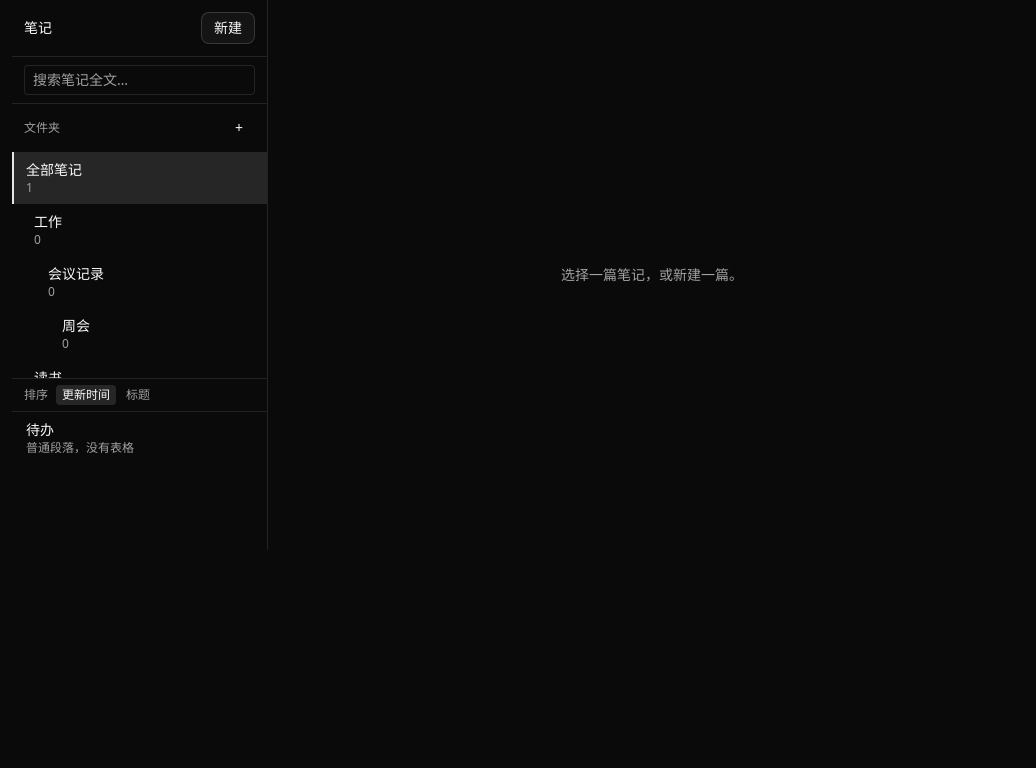
it: NotesView › ★ 表格命令收进下拉：菜单能打开、含全部表格操作
The image size is (1036, 768).
Click the text "待办". click: {"x": 40, "y": 430}
box: [26,420,54,439]
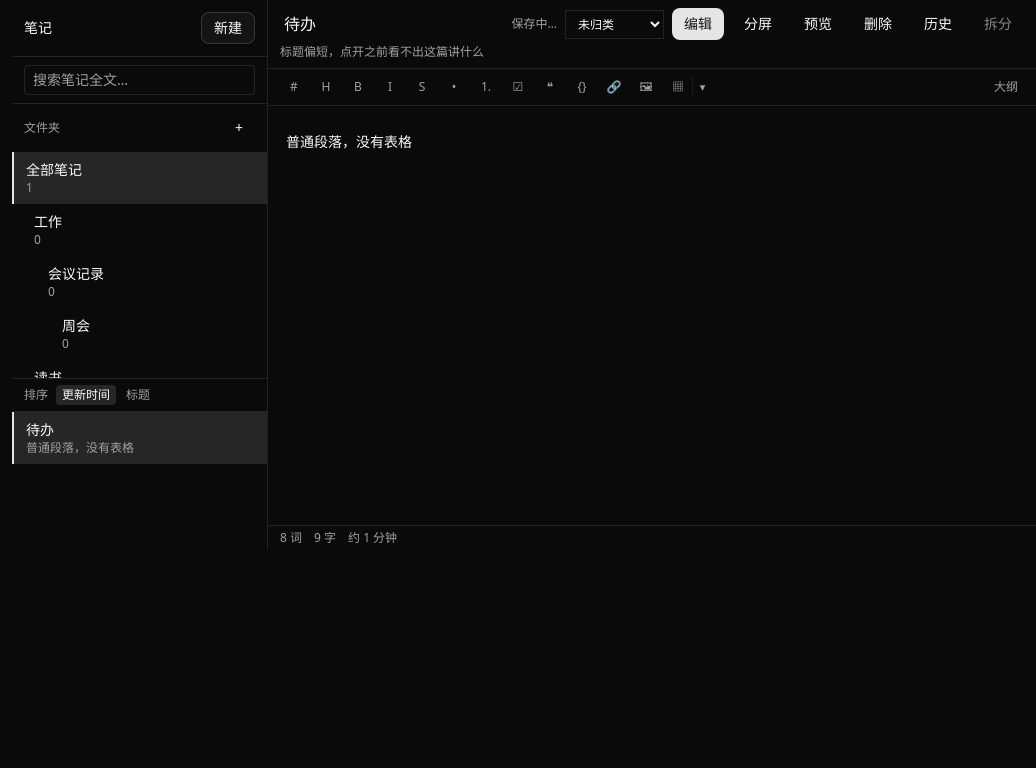
Now the element named "笔记正文" is shown, box [286,132,412,151]
# 打开「表格操作」下拉
Click the button named "更多表格操作". click: {"x": 702, "y": 87}
box: [692,77,712,97]
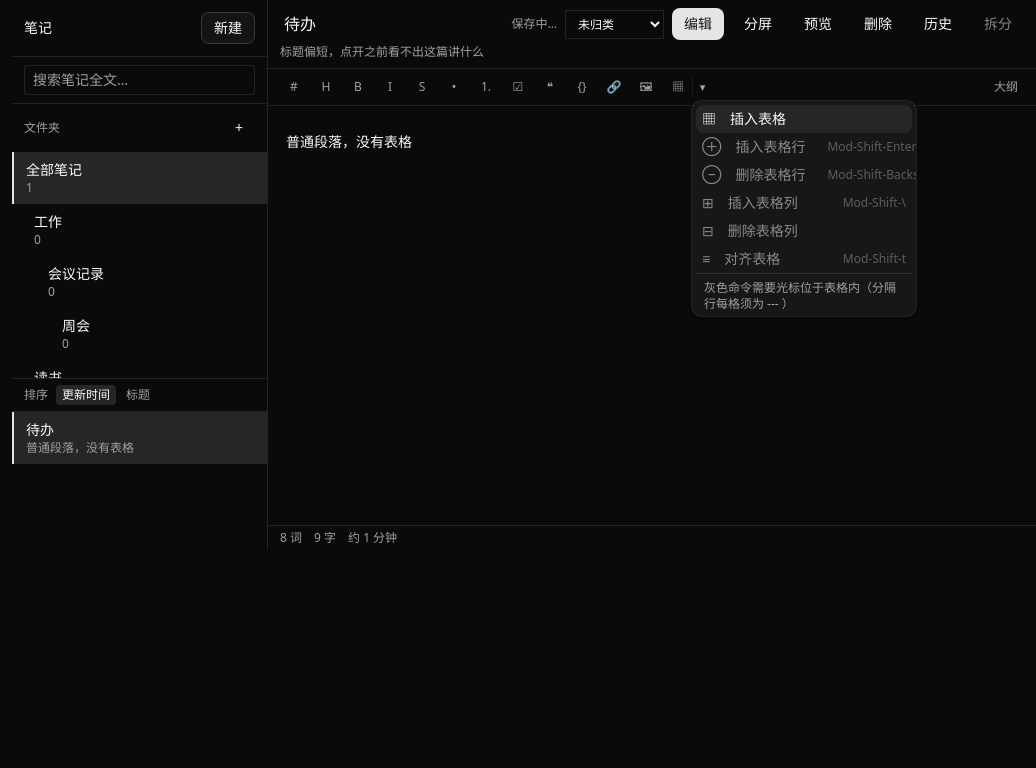
Now the button "▦" is shown, box [664,75,692,99]
Now the menu item "⊕ 插入表格行 Mod-Shift-Enter" is shown, box [696,133,912,161]
Now the menu item "⊖ 删除表格行 Mod-Shift-Backspace" is shown, box [696,161,912,189]
